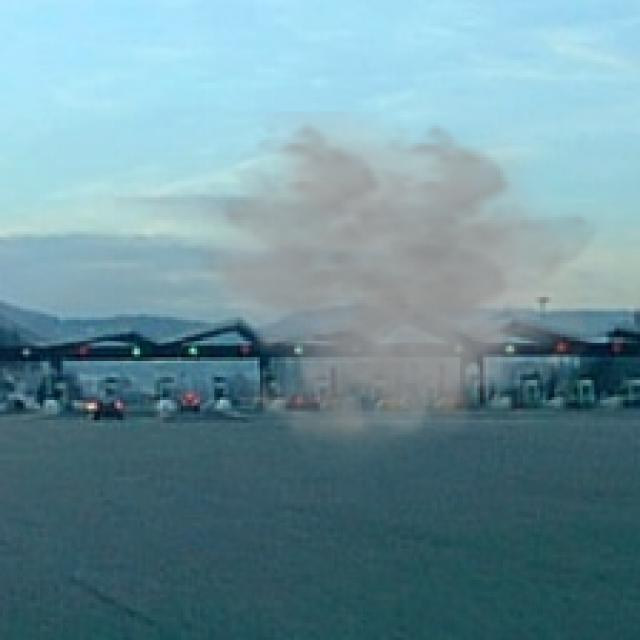smoke: (188, 112, 603, 474)
